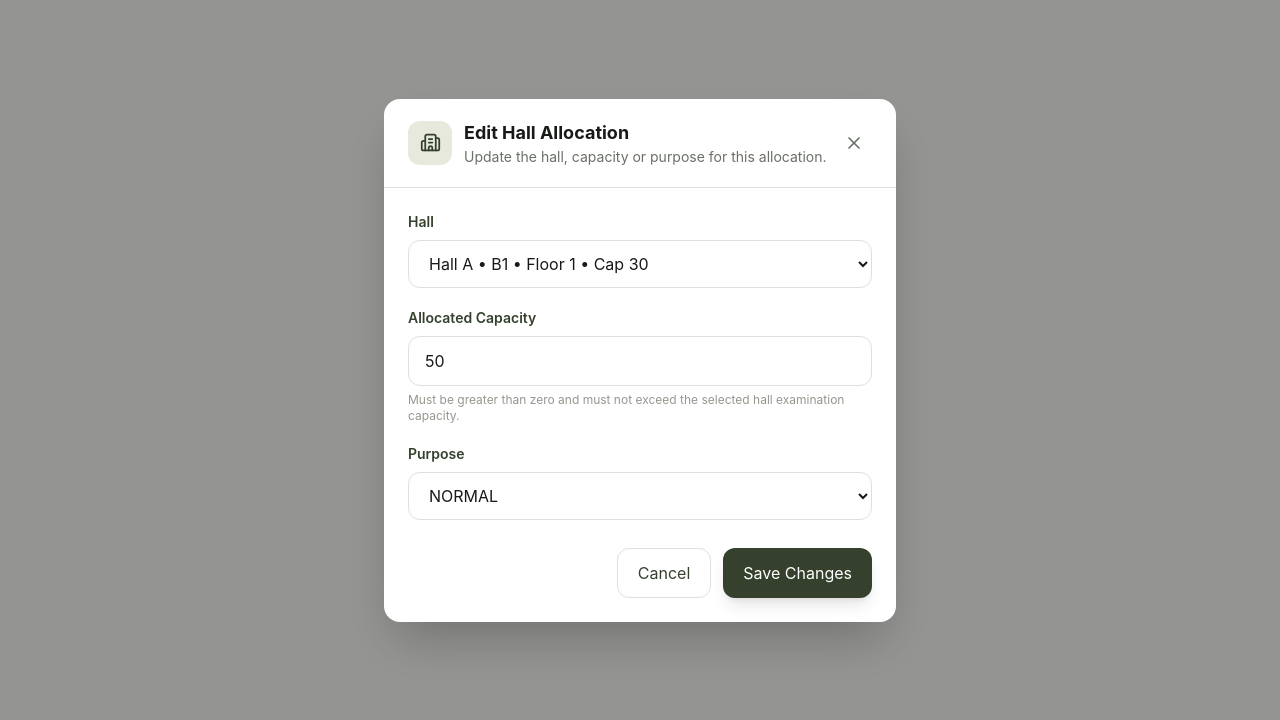
Phase 4 — Forms & validation › FRM-03: server error on save is shown to the user
Click the button "Save Changes". click: [798, 572]
box: x1=723 y1=548 x2=872 y2=598
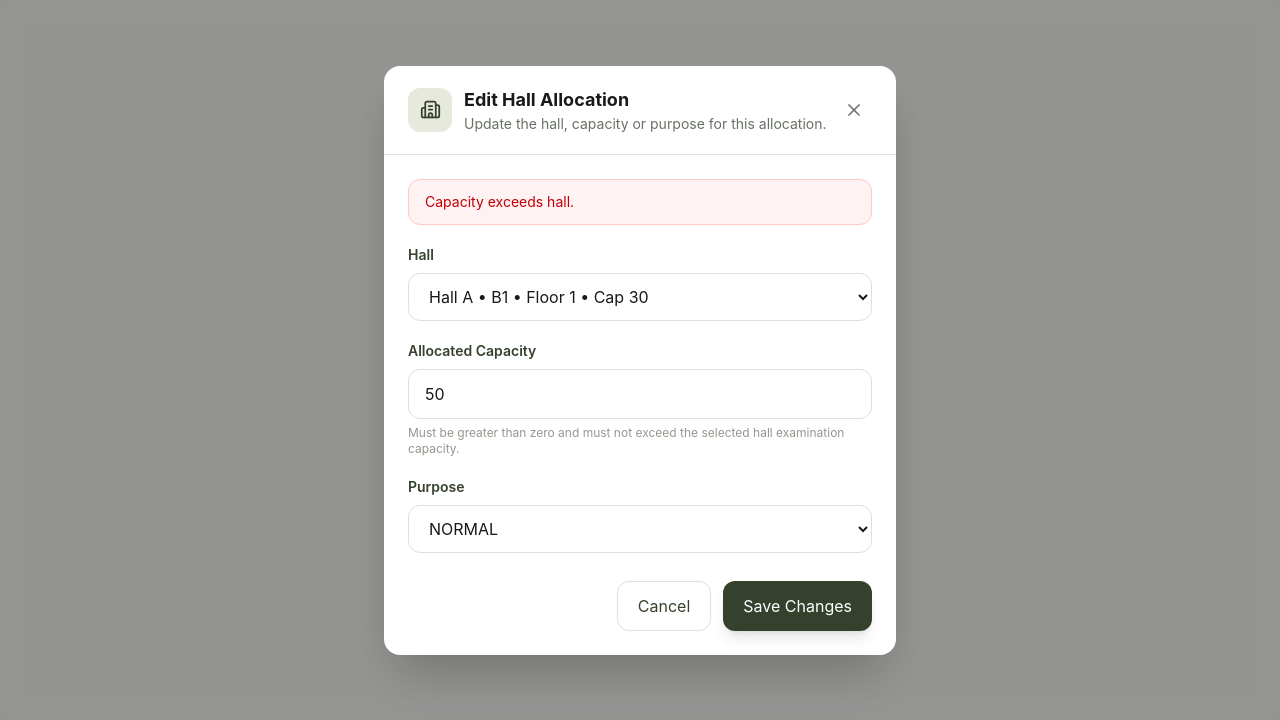
Expected: the text "Capacity exceeds hall." is shown, x1=408 y1=178 x2=872 y2=224
